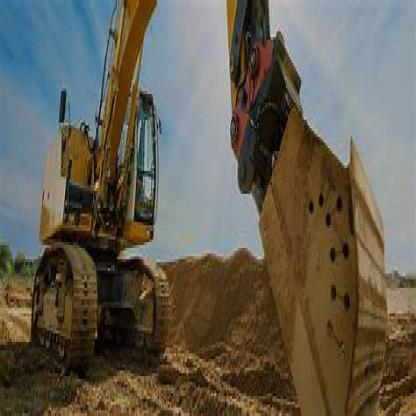excavator: (27, 17, 386, 413)
